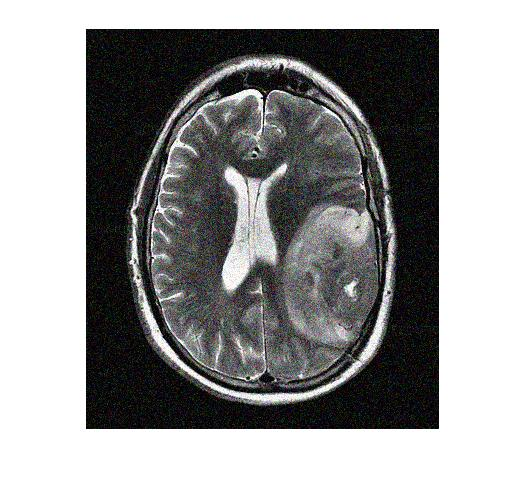Brain_Cancer: (286, 208, 375, 325)
